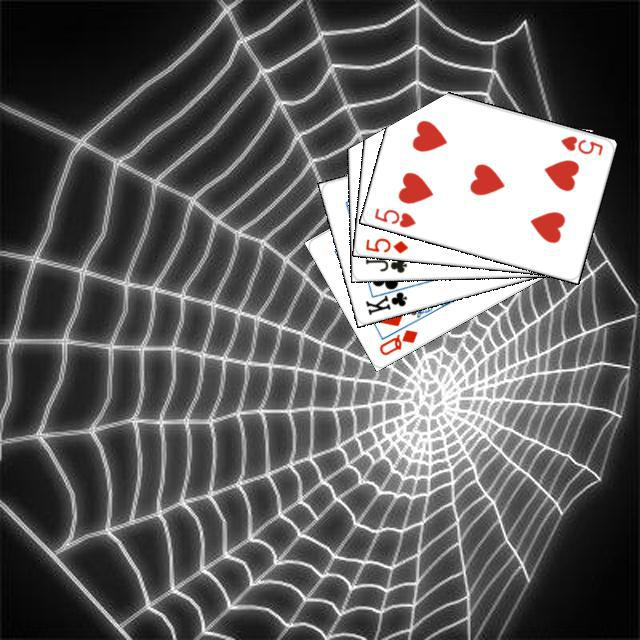5d: (360, 233, 410, 255)
5h: (369, 203, 418, 229), (556, 131, 605, 157)
Jc: (360, 253, 408, 275)
Kc: (360, 281, 410, 317)
Qd: (374, 324, 419, 357)
